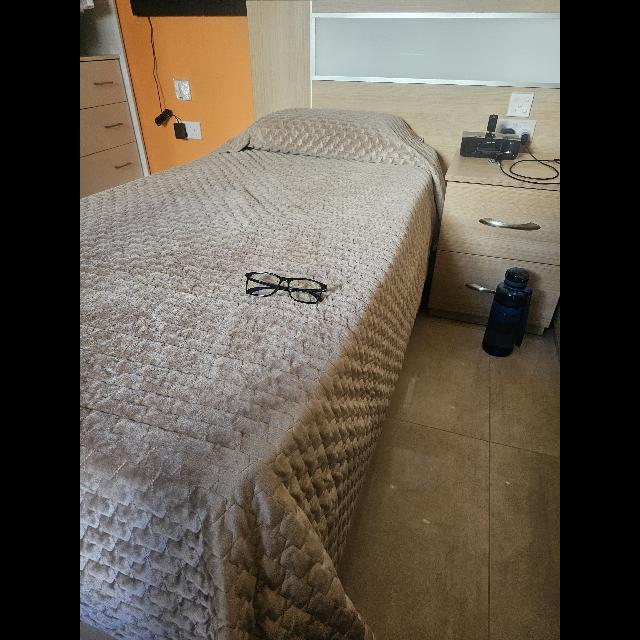glasses: (245, 272, 327, 304)
